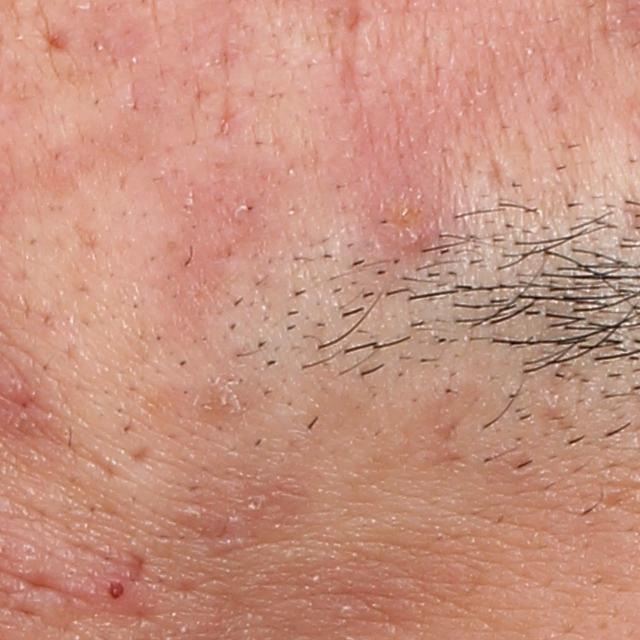atrophic_scar: (486, 151, 509, 195), (126, 547, 150, 582), (128, 444, 151, 463)
papule: (367, 180, 435, 248), (92, 567, 131, 607)
